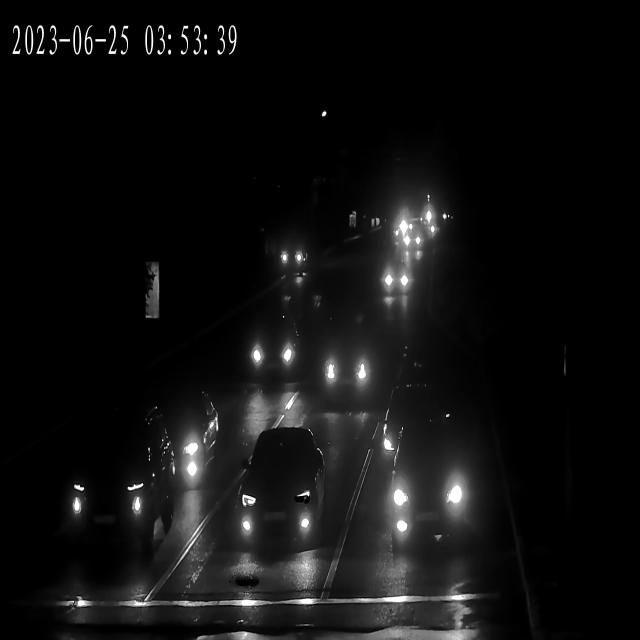Car: (51, 426, 162, 544), (230, 435, 326, 547), (380, 436, 476, 542), (142, 389, 222, 491), (318, 335, 377, 397), (243, 323, 302, 378), (376, 263, 412, 297), (276, 243, 310, 274), (397, 234, 420, 254), (401, 231, 424, 251), (393, 218, 412, 234), (398, 218, 418, 233), (392, 222, 409, 236), (419, 218, 436, 232), (390, 227, 407, 241), (417, 214, 436, 226)
